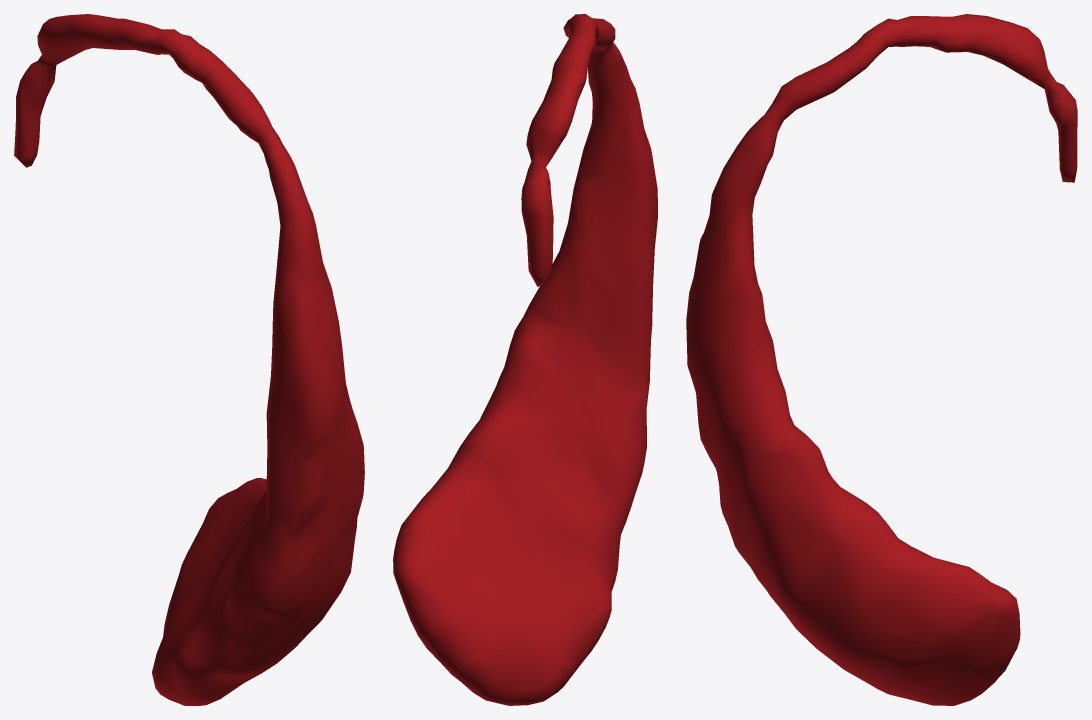
File: right_caudate.obj
3 renders of one model, left to right at view 1: azimuth 30°, elevation 25°; view 2: azimuth 150°, elevation 25°; view 3: azimuth 270°, elevation 25°, orthographic. The views are drawn at different scales.
Parts seen in each view (by area): view 1: right_caudate_right_caudate; view 2: right_caudate_right_caudate; view 3: right_caudate_right_caudate.
Boxes of the visible parts, box(x1,y1,x2,y2) form: right_caudate_right_caudate: box(14, 14, 364, 705); right_caudate_right_caudate: box(393, 14, 657, 705); right_caudate_right_caudate: box(686, 14, 1077, 705).
Bounding box in the file's own units: 2.06 × 6.28 × 3.36.
